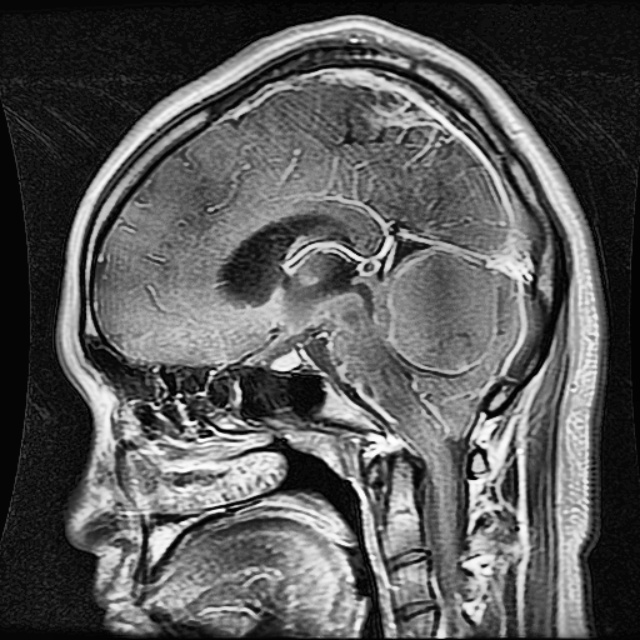Meningioma: (384, 252, 498, 378)
